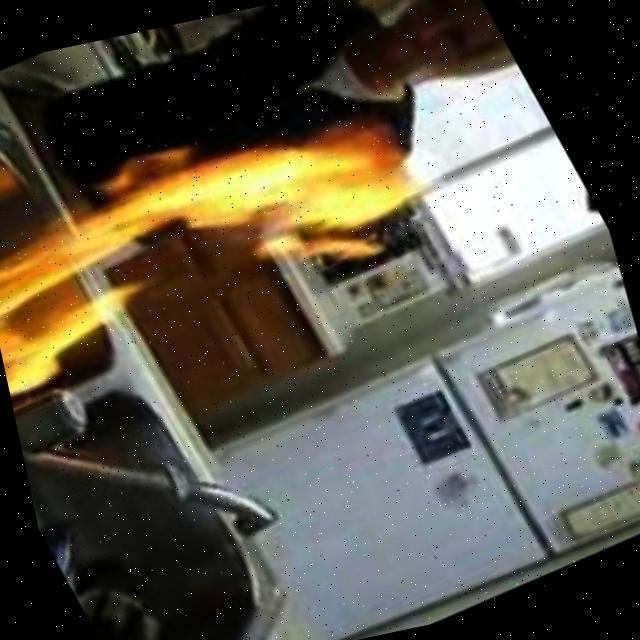fire: (0, 31, 475, 436)
